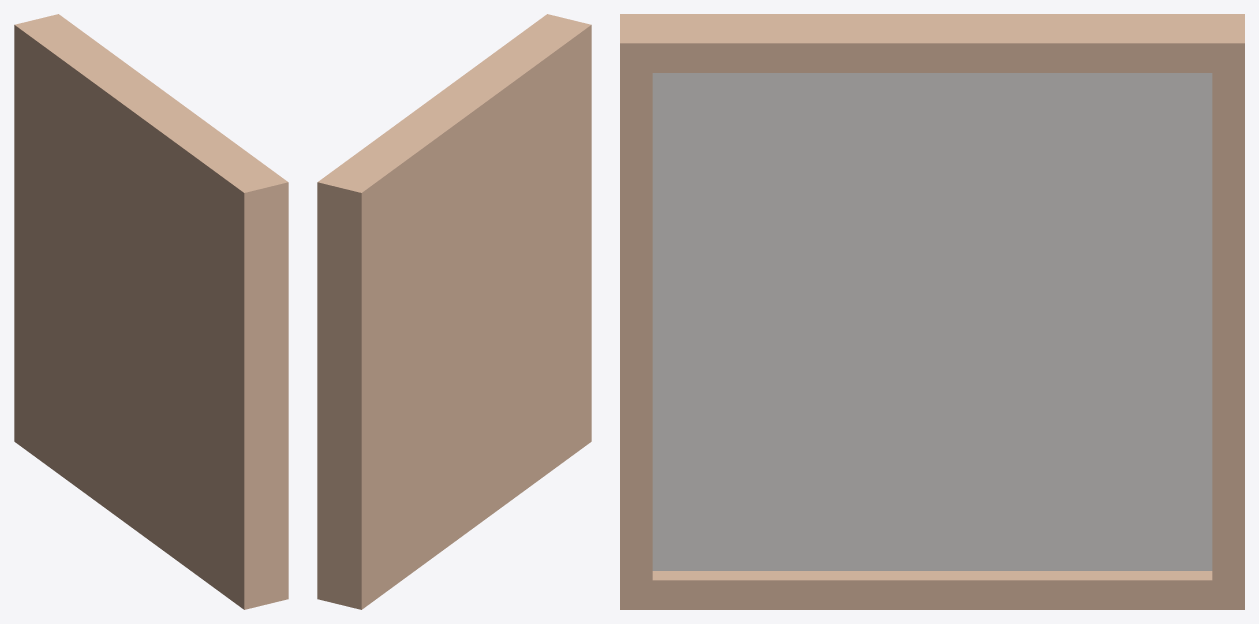
The model's file is Big picture frame.fbx.
3 renders of one model, left to right at view 1: azimuth 30°, elevation 25°; view 2: azimuth 150°, elevation 25°; view 3: azimuth 270°, elevation 25°, orthographic. The views are drawn at different scales.
Parts seen in each view (by area): view 1: Wall Frame; view 2: Wall Frame; view 3: Wall Frame.
Boxes of the visible parts, x1,y1,x2,y2 form: Wall Frame: (14,14,288,609); Wall Frame: (317,14,591,609); Wall Frame: (620,14,1244,609).
Bounding box in the file's own units: 8.11 × 73.12 × 73.06.
